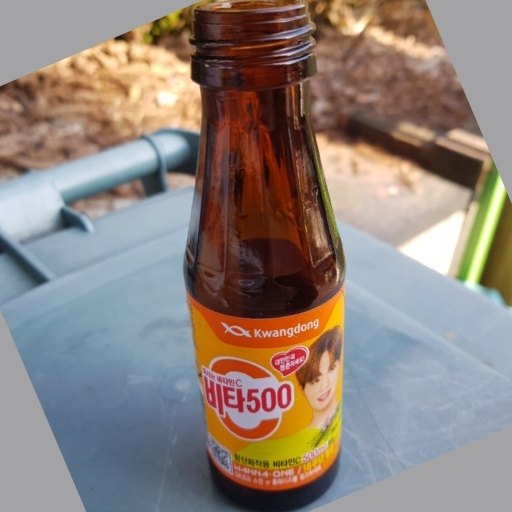Glass_3: (183, 1, 347, 510)
